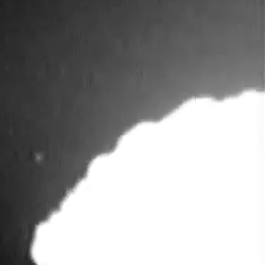Target: (37, 154, 41, 159)
